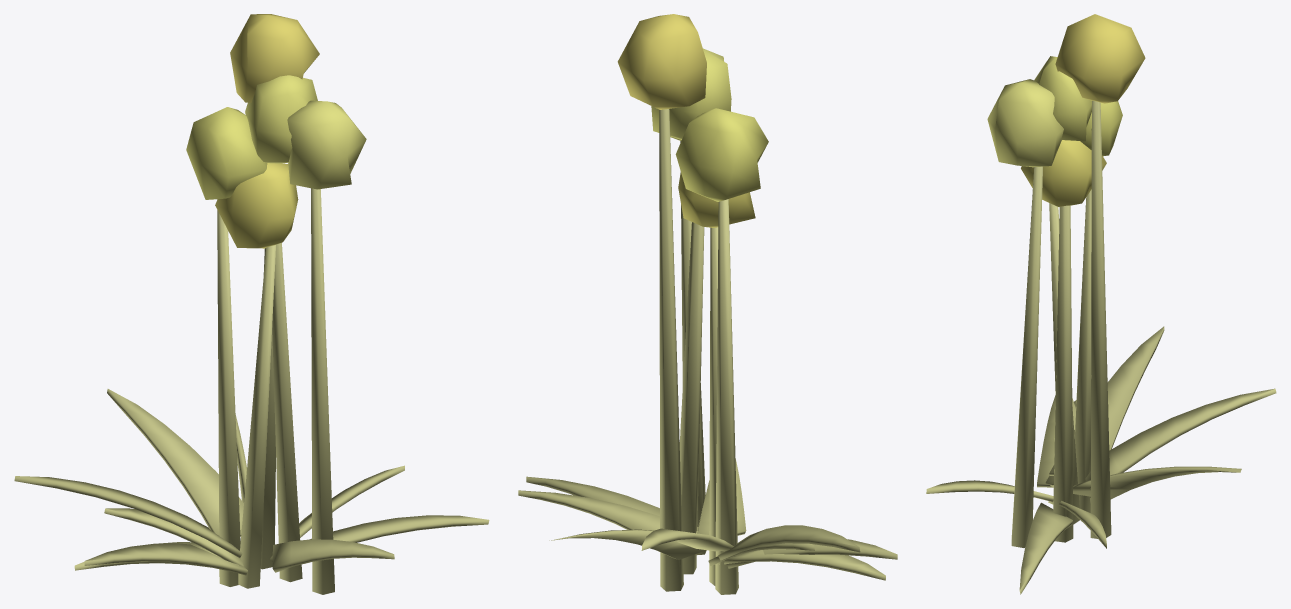
Rendered from thistle_1.glb.
3 views of the same model, side by side, from view 1: azimuth 30°, elevation 25°; view 2: azimuth 150°, elevation 25°; view 3: azimuth 270°, elevation 25° (orthographic). The views are drawn at different scales.
Parts seen in each view (by area): view 1: thistle; view 2: thistle; view 3: thistle.
Part boxes in pixels (x1,y1,x2,y2): thistle: (14,14,489,594); thistle: (518,14,897,594); thistle: (926,14,1276,594).
Bounding box in the file's own units: 0.4963 × 0.6552 × 0.3983.
